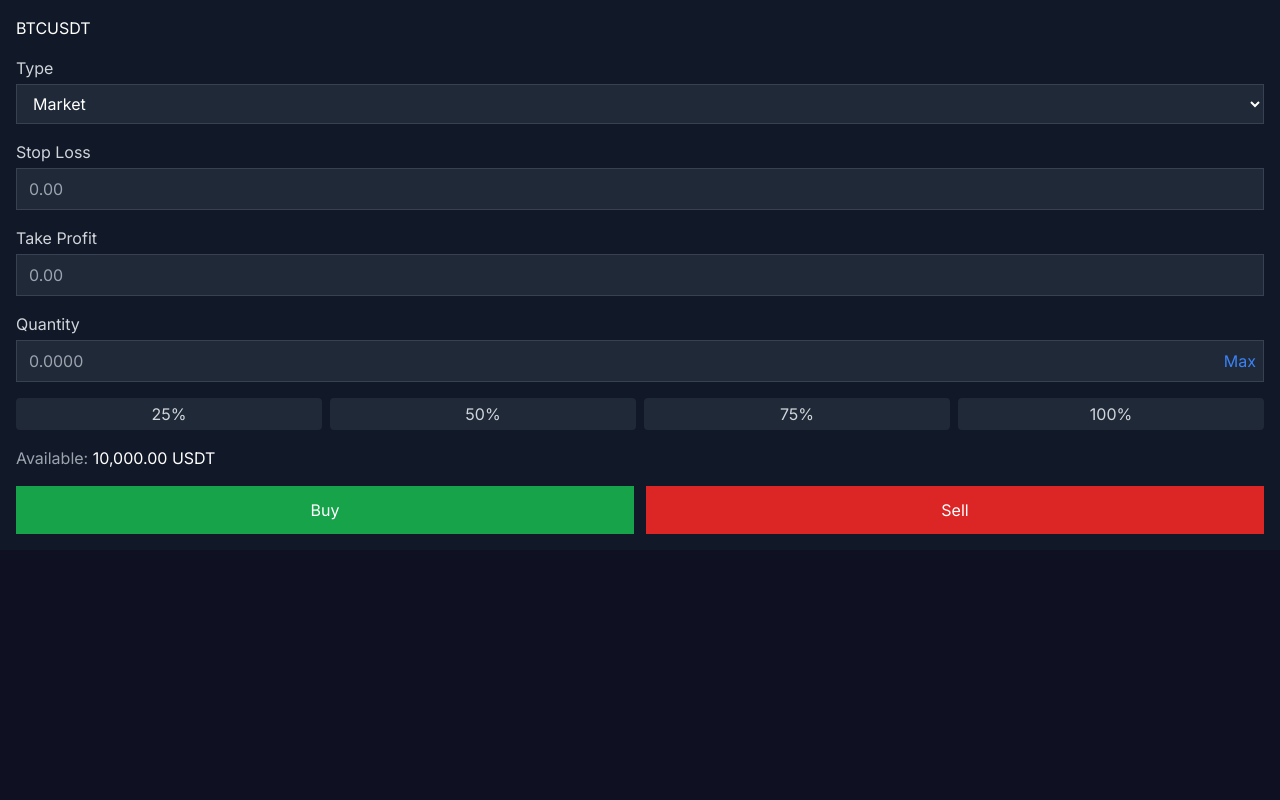
Test: PanelPB › validation › should show error for negative quantity
Type "-0.001" into the number field labelled "Quantity".
click(640, 361); type("-0.001")  # box top-left (16, 340), bottom-right (1264, 382)
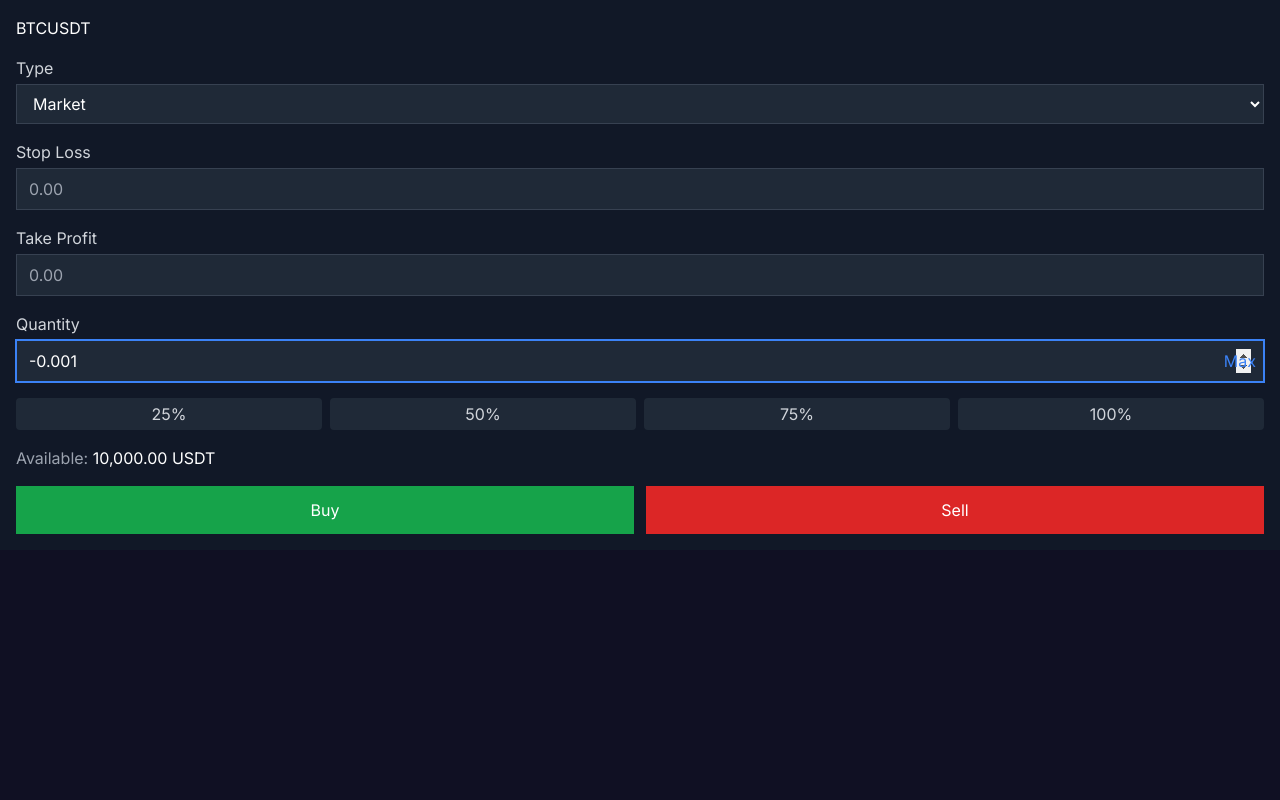
Click the button with test id "buy-button".
click(325, 510)  # box top-left (16, 486), bottom-right (634, 534)
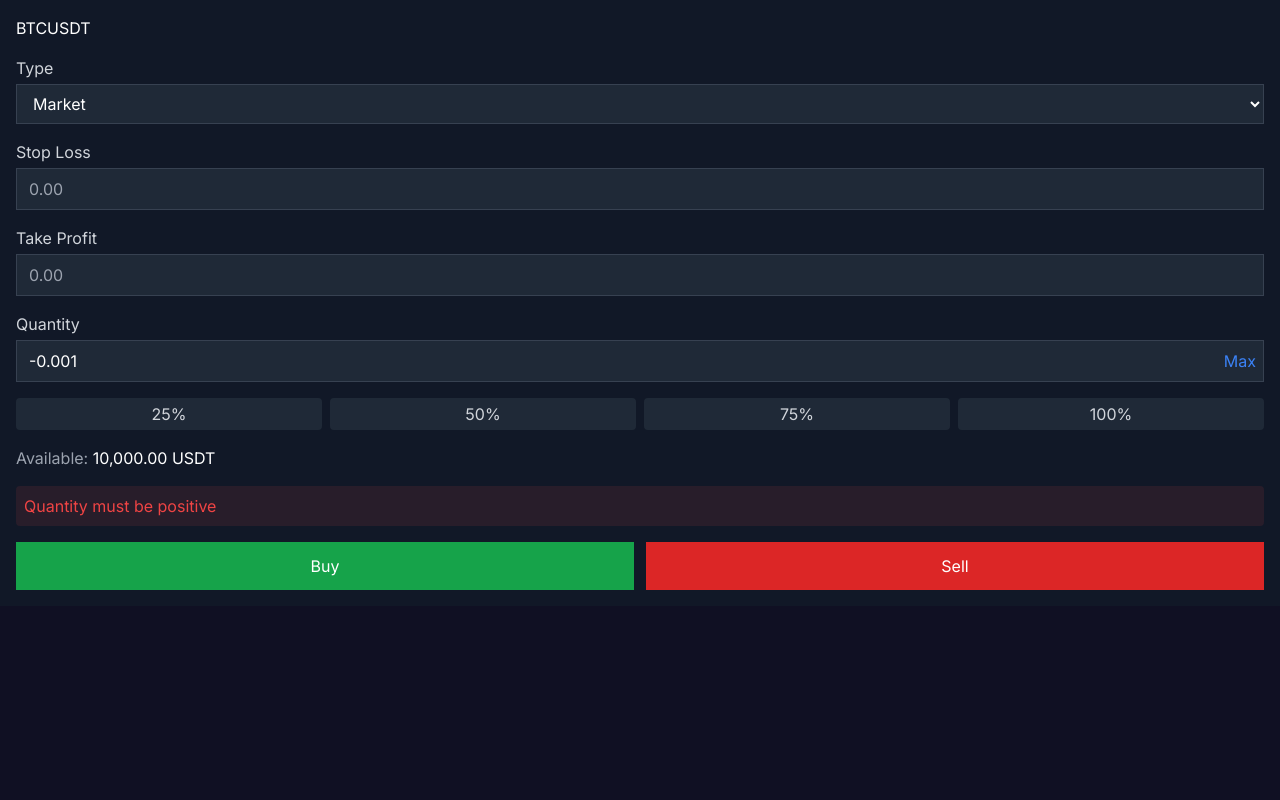
Expected: the text "Quantity must be positive" is shown, top-left (16, 486), bottom-right (1264, 526)
